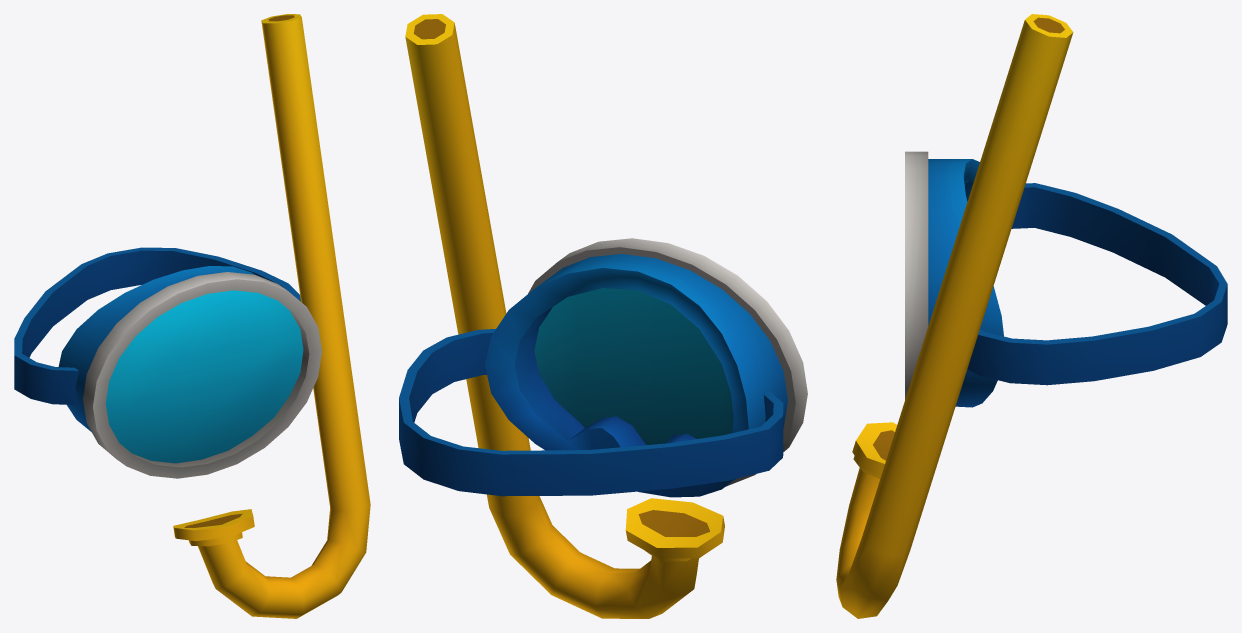
Rendered from diver_mask.glb.
3 renders of one model, left to right at view 1: azimuth 30°, elevation 25°; view 2: azimuth 150°, elevation 25°; view 3: azimuth 270°, elevation 25°, orthographic. The views are drawn at different scales.
Visible parts, largest first — view 1: diver's_mask; view 2: diver's_mask; view 3: diver's_mask.
Boxes of the visible parts, x1,y1,x2,y2 form: diver's_mask: (14, 14, 370, 618); diver's_mask: (399, 14, 807, 618); diver's_mask: (836, 14, 1227, 618).
Size of the model in its own units: 0.1269 by 0.22 by 0.1244.
1 material, 1 textured.
